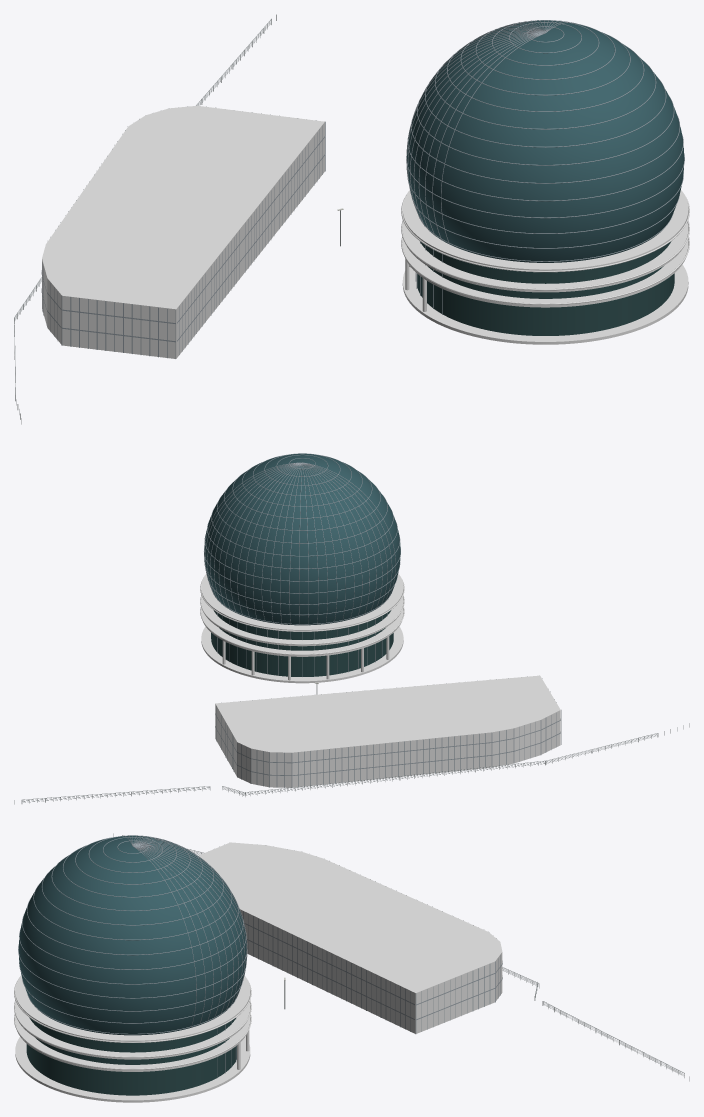
3 renders of one model, top to bottom at view 1: azimuth 30°, elevation 25°; view 2: azimuth 150°, elevation 25°; view 3: azimuth 270°, elevation 25°, orthographic. The views are drawn at different scales.
Parts seen in each view (by area): view 1: -2_0_v03 球厅反射玻璃, -2_0_v02 深灰屋面, -2_0_v03 会议中心浅米石, -2_0_v02 米白石材, -2_0_v02 铝合金幕墙框, -2_0_v03 会议中心深蓝绿玻璃, -2_0_滨江栏杆拉丝不锈钢; view 2: -2_0_v03 球厅反射玻璃, -2_0_v02 深灰屋面, -2_0_v02 米白石材, -2_0_v02 铝合金幕墙框, -2_0_v03 会议中心浅米石, -2_0_v03 会议中心深蓝绿玻璃, -2_0_滨江栏杆拉丝不锈钢; view 3: -2_0_v03 球厅反射玻璃, -2_0_v02 深灰屋面, -2_0_v02 米白石材, -2_0_v03 会议中心浅米石, -2_0_v02 铝合金幕墙框, -2_0_v03 会议中心深蓝绿玻璃, -2_0_滨江栏杆拉丝不锈钢.
Boxes of the visible parts, x1,y1,x2,y2 form: -2_0_v03 球厅反射玻璃: (407,20,684,262); -2_0_v02 深灰屋面: (42,105,324,309); -2_0_v03 会议中心浅米石: (401,190,689,344); -2_0_v02 米白石材: (42,122,324,358); -2_0_v02 铝合金幕墙框: (41,20,684,358); -2_0_v03 会议中心深蓝绿玻璃: (417,241,674,335); -2_0_滨江栏杆拉丝不锈钢: (14,14,276,424); -2_0_v03 球厅反射玻璃: (204,453,400,625); -2_0_v02 深灰屋面: (215,675,560,752); -2_0_v02 米白石材: (215,704,560,787); -2_0_v02 铝合金幕墙框: (204,453,561,787); -2_0_v03 会议中心浅米石: (200,573,404,683); -2_0_v03 会议中心深蓝绿玻璃: (211,610,393,676); -2_0_滨江栏杆拉丝不锈钢: (14,723,689,804); -2_0_v03 球厅反射玻璃: (18,835,246,1035); -2_0_v02 深灰屋面: (198,842,502,992); -2_0_v02 米白石材: (240,909,502,1033); -2_0_v03 会议中心浅米石: (14,975,251,1102); -2_0_v02 铝合金幕墙框: (18,835,502,1077); -2_0_v03 会议中心深蓝绿玻璃: (26,1017,236,1095); -2_0_滨江栏杆拉丝不锈钢: (113,833,689,1081).
Bounding box in the file's own units: 137 × 50.37 × 148.
